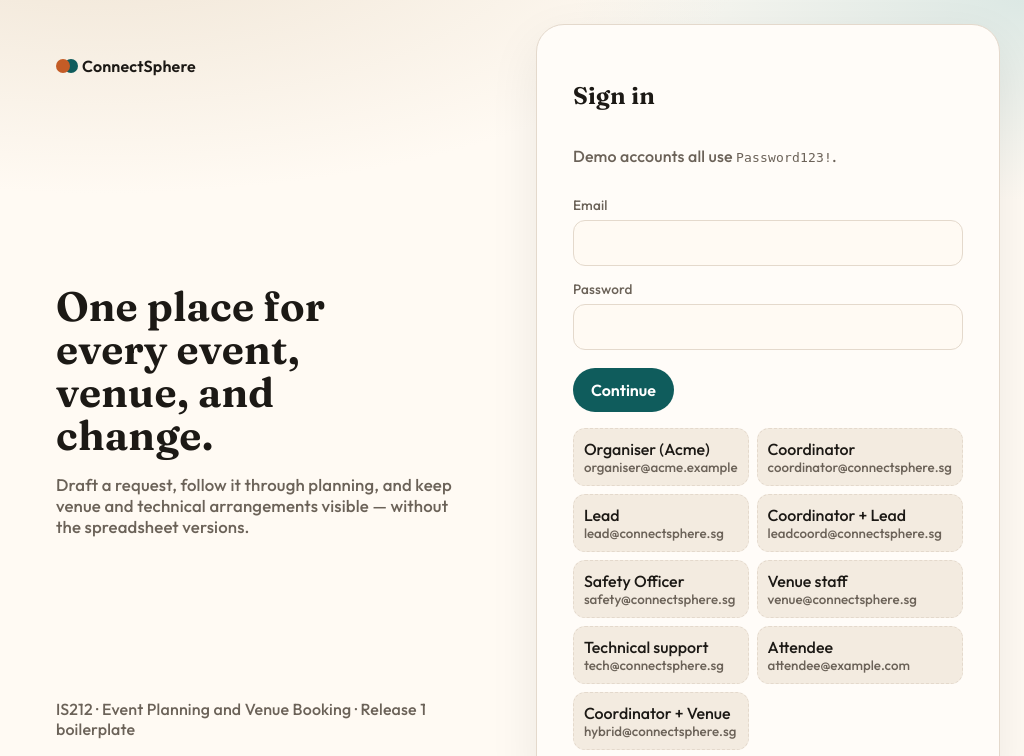
Login page › shows an error message on invalid credentials
Type "organiser@acme.example" into the field labelled "Email" at point(768, 243), box [573,220,963,266]
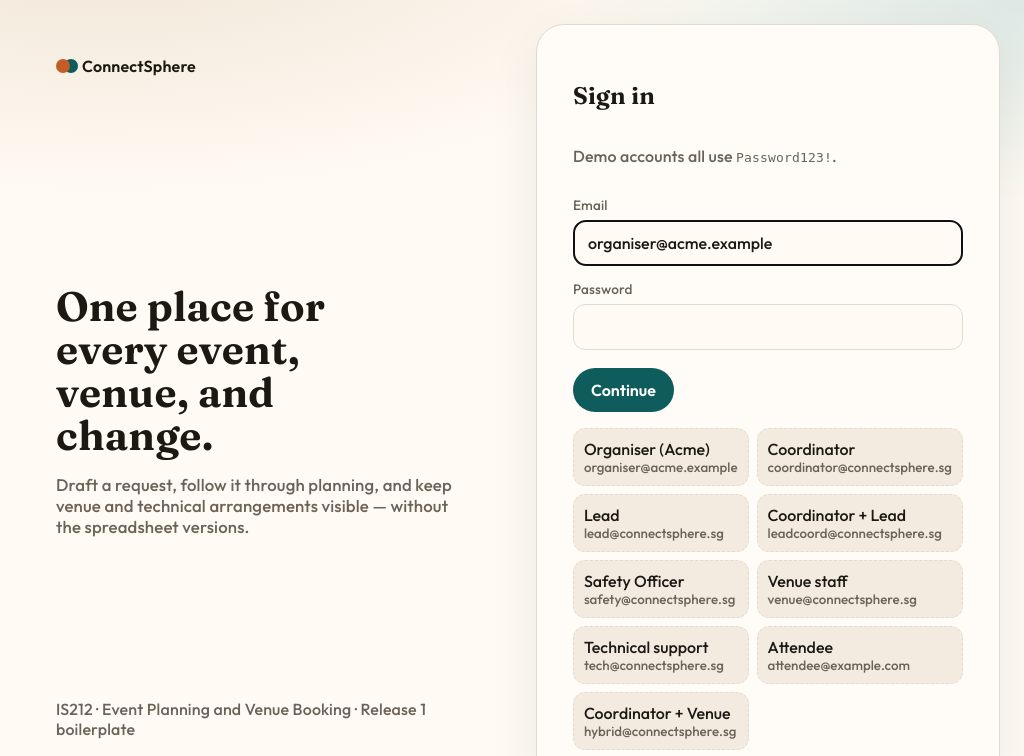
Type "wrong-password" into the password field labelled "Password" at point(768, 327), box [573,304,963,350]
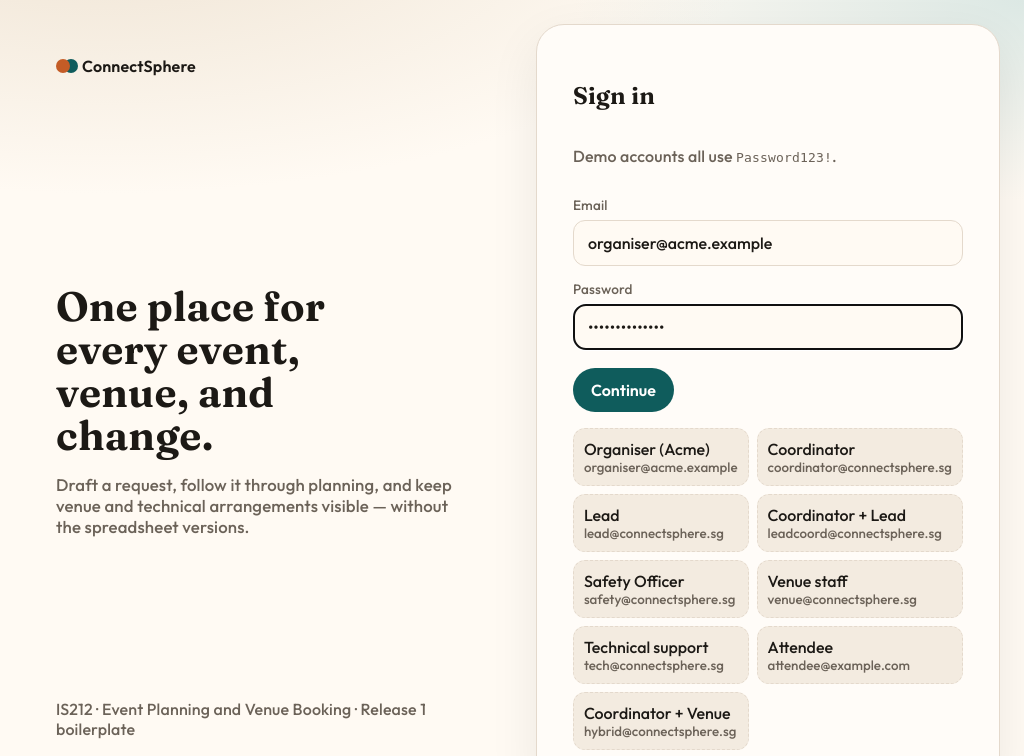
Click the button "Continue" at point(623, 390), box [573,368,674,412]
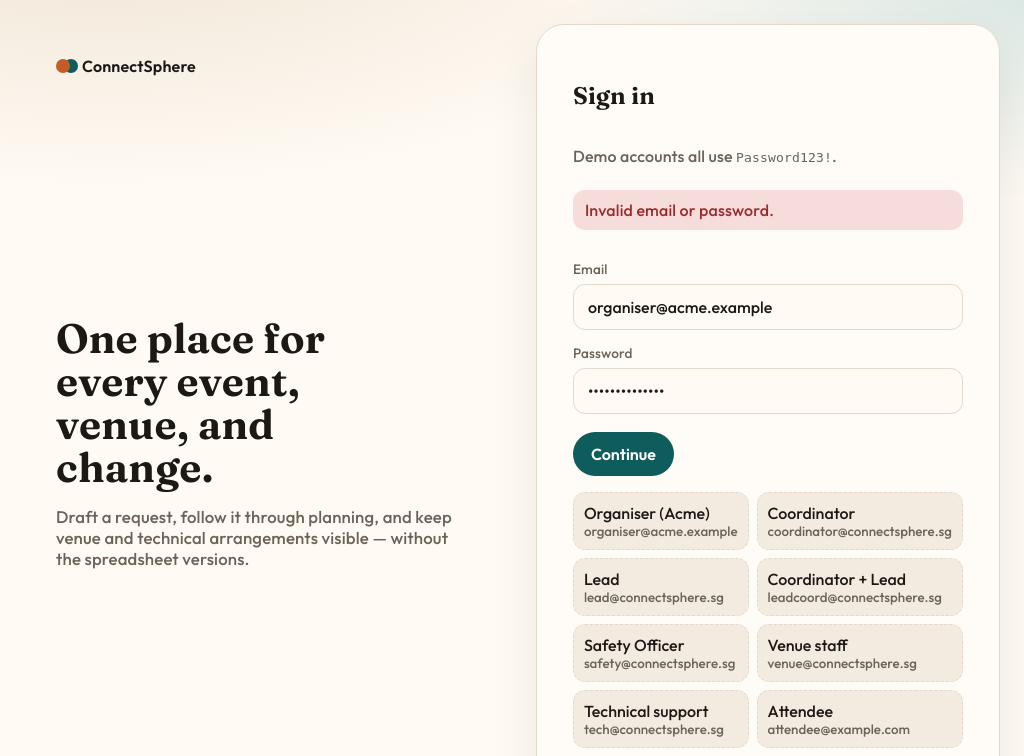
Expected: the heading "Sign in" is shown, [573,81,655,110]
Result: the message reads "Invalid email or password." at [585,200,774,220]
